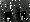person: (6, 10, 12, 21), (22, 9, 27, 20)
